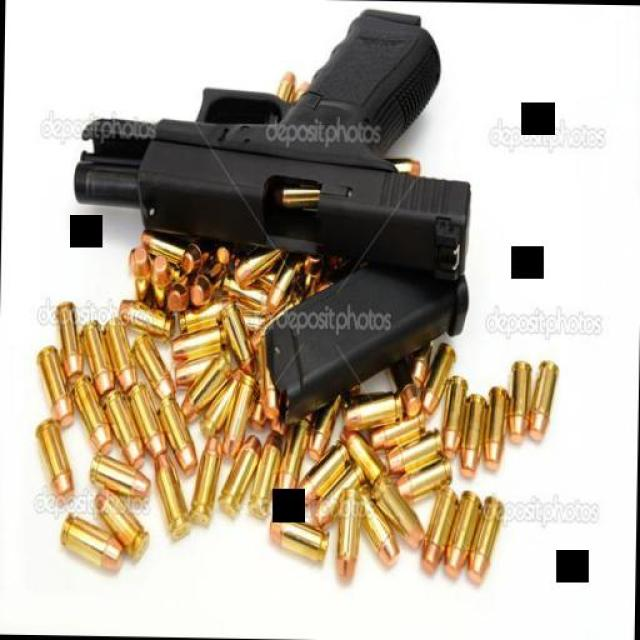gun: (60, 0, 496, 264)
